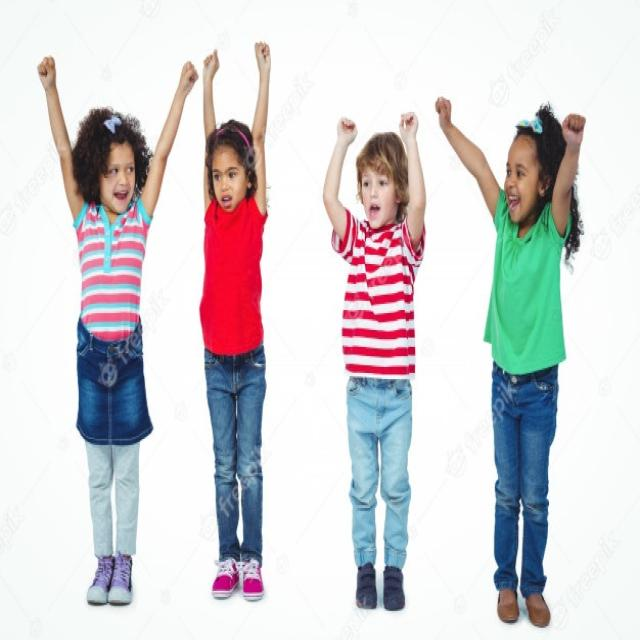child: (427, 78, 596, 640), (32, 50, 200, 610), (312, 80, 433, 623), (195, 37, 284, 605)
